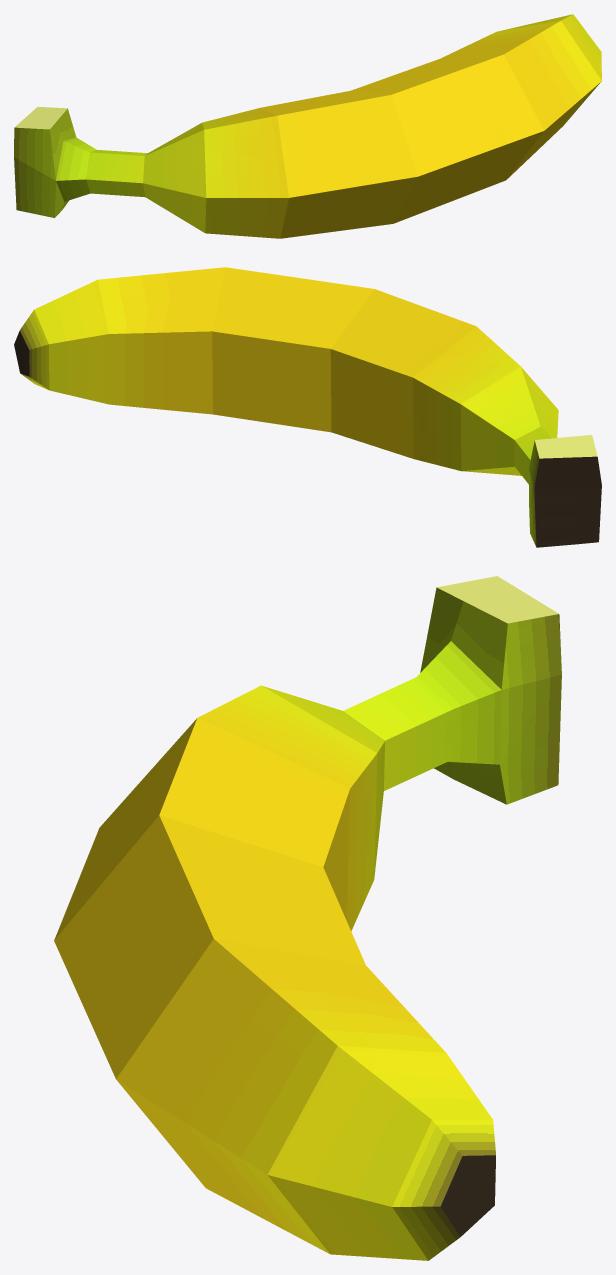
File: banana-1.fbx
3 views of the same model, one above another, from view 1: azimuth 30°, elevation 25°; view 2: azimuth 150°, elevation 25°; view 3: azimuth 270°, elevation 25° (orthographic). The views are drawn at different scales.
Parts seen in each view (by area): view 1: fruit-1; view 2: fruit-1; view 3: fruit-1.
Boxes of the visible parts, <box> form: fruit-1: <box>14,14,601,238</box>; fruit-1: <box>14,267,601,547</box>; fruit-1: <box>54,576,561,1260</box>.
Size of what is drawn, in the model's own units: 12.62 by 2.74 by 4.93.
